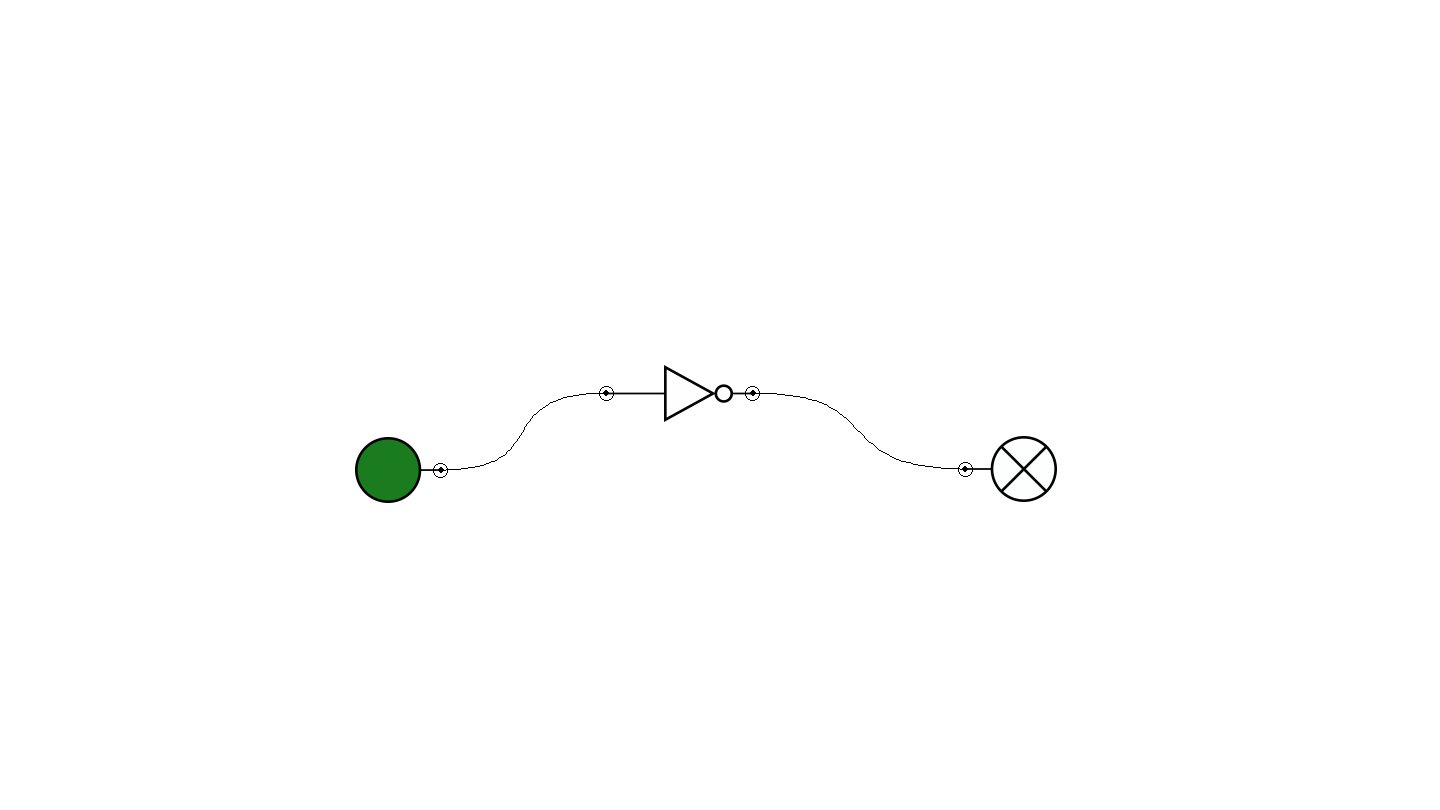bulb: (958, 436, 1057, 502)
not: (599, 365, 760, 422)
switch_True: (355, 437, 448, 503)
